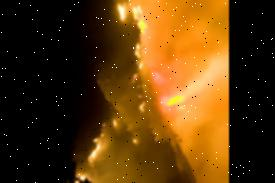fire: (57, 0, 152, 183)
